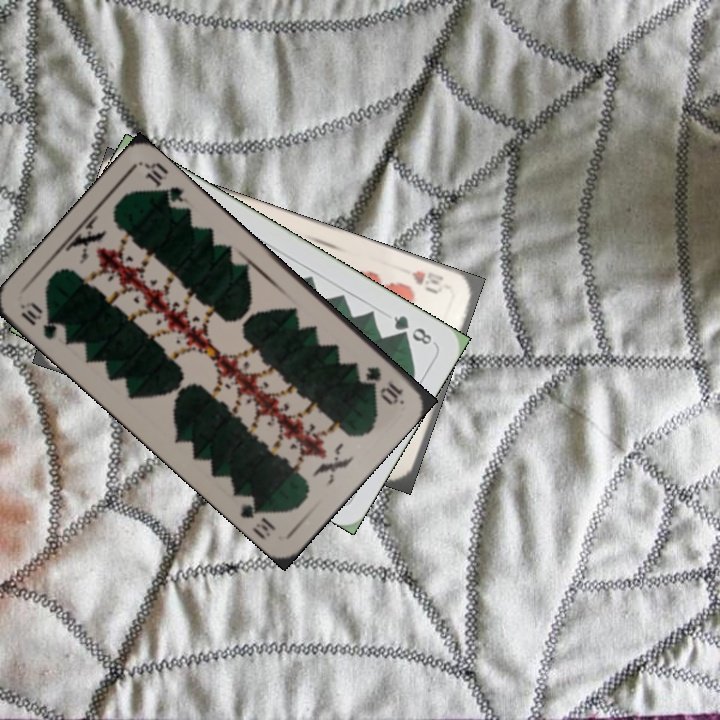G10: (16, 297, 61, 343), (361, 362, 406, 407)
G8: (389, 311, 435, 348)
H10: (408, 266, 455, 297)
